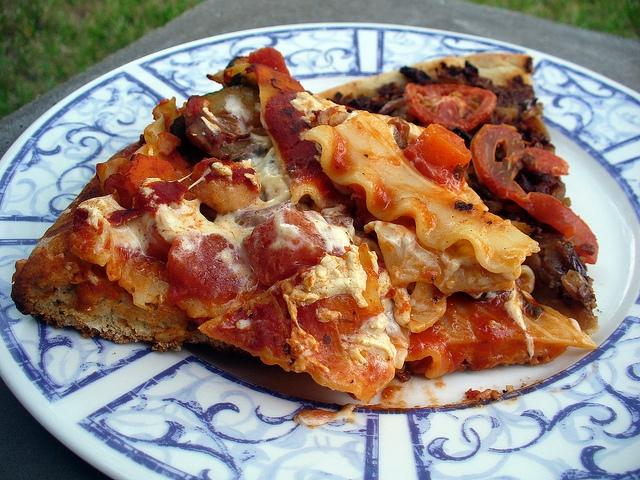tomato: (469, 123, 598, 264), (244, 207, 352, 287), (404, 122, 472, 192), (404, 83, 497, 132), (124, 152, 192, 196), (147, 223, 172, 264)
